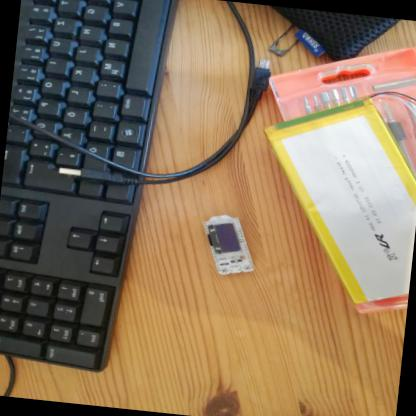Heltec_ESP32_Lora: (197, 210, 263, 283)
